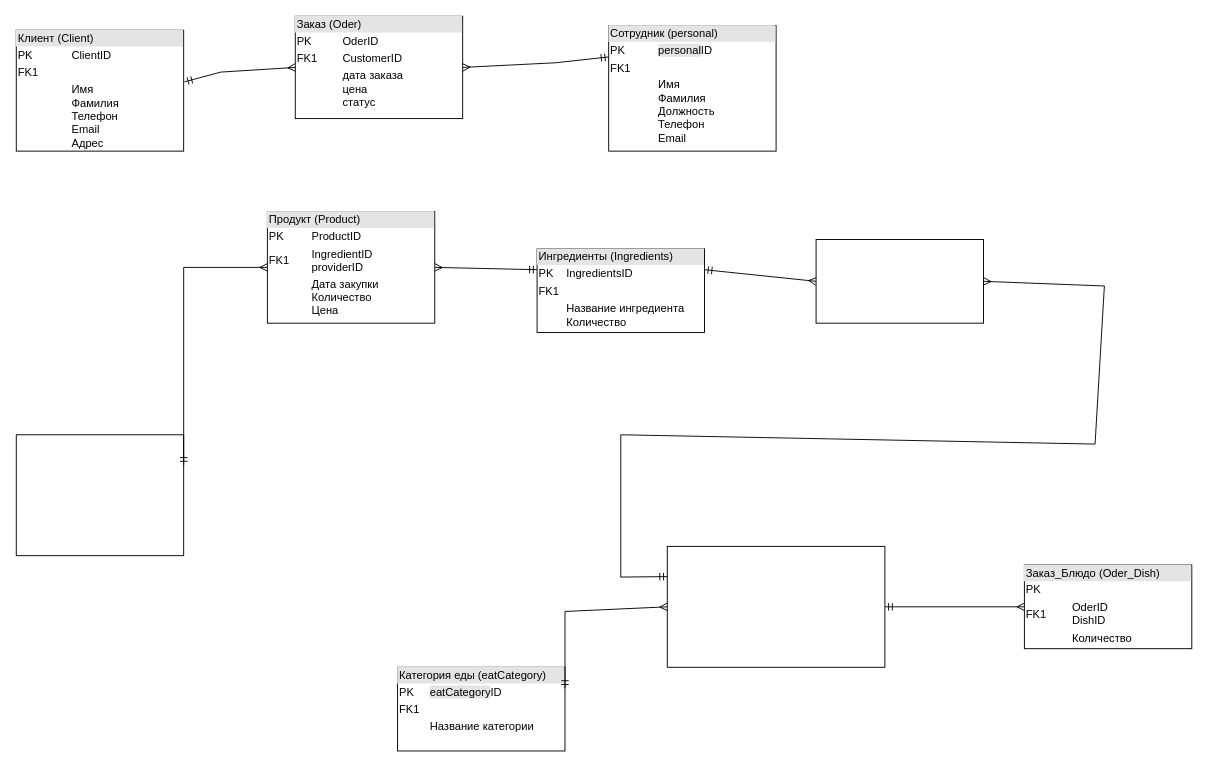
Image size: 1208x767. Some labels were removed from this diagram. Each missing label, with the centre of its shape:
Блюдо (Dish) PK DishID FK1 CategoyID Название блюда Имя Описание Цена: (x=775, y=606)
Поставщик (provider) PK providerID FK1 Имя Контакты Телефон Адрес Email: (x=99, y=495)
Рецепт (Recipe) PK RecipeID FK1 eatID IngredientID Количество: (x=899, y=281)
